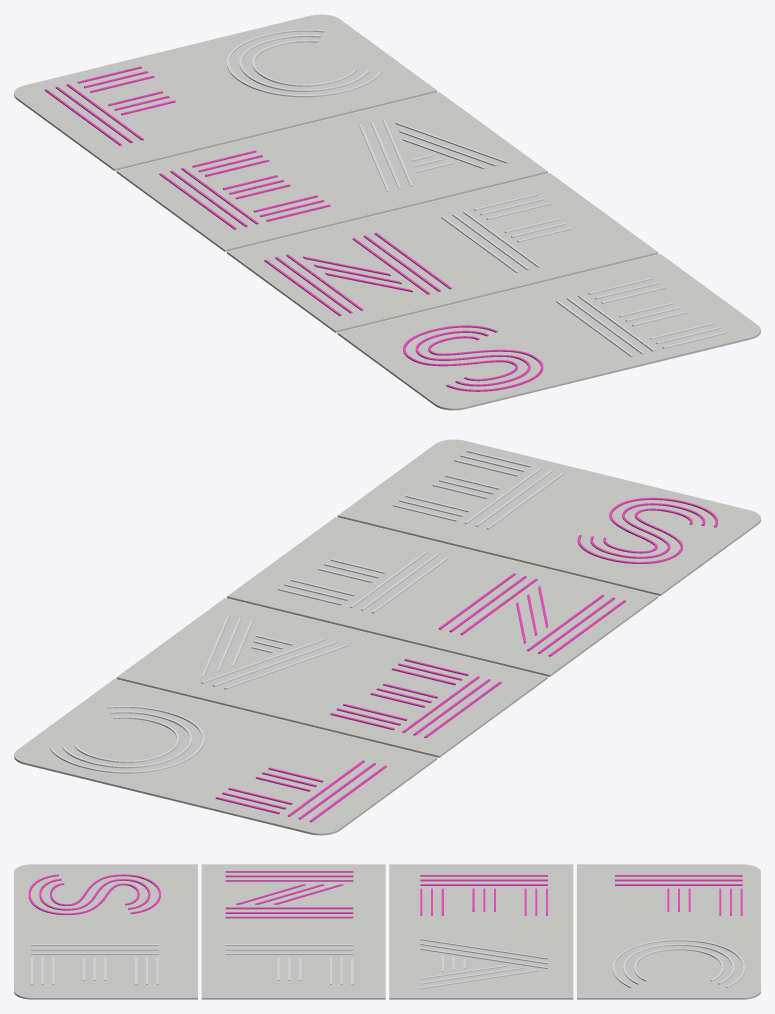
Rendered from sign.fbx.
3 views of the same model, one above another, from view 1: azimuth 30°, elevation 25°; view 2: azimuth 150°, elevation 25°; view 3: azimuth 270°, elevation 25° (orthographic). The views are drawn at different scales.
Visible parts, largest first — view 1: Body73, Body1, Body72, Body74, Body84, Body125, Body130, Body122, Body104; view 2: Body73, Body72, Body1, Body74, Body84, Body122, Body125, Body130, Body104; view 3: Body73, Body1, Body72, Body74, Body84, Body125, Body122, Body130, Body104, Body88, Body75, Body139 (+21 smaller).
Part boxes in pixels (x1,y1,x2,y2): Body73: [14, 14, 437, 170]; Body1: [116, 92, 547, 251]; Body72: [227, 173, 658, 332]; Body74: [337, 254, 760, 410]; Body84: [227, 29, 381, 97]; Body125: [428, 336, 543, 391]; Body130: [403, 325, 517, 381]; Body122: [415, 330, 530, 386]; Body104: [239, 34, 369, 91]; Body73: [14, 679, 437, 835]; Body72: [227, 517, 658, 676]; Body1: [116, 598, 547, 757]; Body74: [337, 439, 760, 595]; Body84: [50, 706, 204, 773]; Body122: [590, 503, 705, 558]; Body125: [603, 497, 717, 553]; Body130: [577, 508, 692, 563]; Body104: [62, 711, 192, 768]; Body73: [577, 864, 760, 999]; Body1: [389, 864, 573, 999]; Body72: [201, 864, 385, 999]; Body74: [14, 864, 197, 999]; Body84: [612, 939, 745, 987]; Body125: [28, 874, 139, 915]; Body122: [39, 878, 150, 910]; Body130: [50, 874, 160, 914]; Body104: [623, 944, 734, 984]; Body88: [634, 948, 723, 981]; Body75: [225, 948, 353, 950]; Body139: [225, 875, 353, 877].
Size of the model in its own units: 860 by 7.76 by 2030.
